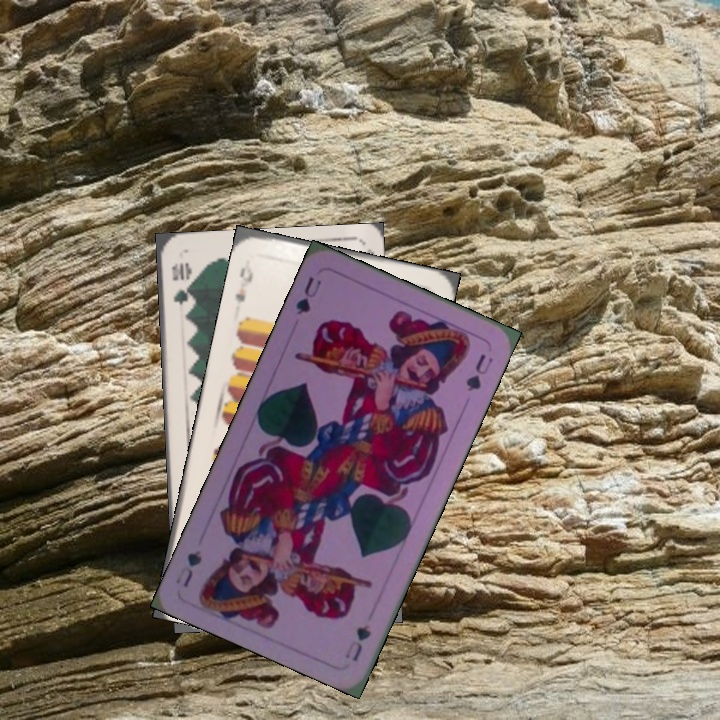E9: (231, 255, 256, 306)
G10: (168, 259, 192, 307)
GU: (340, 620, 374, 664), (291, 273, 324, 318)
